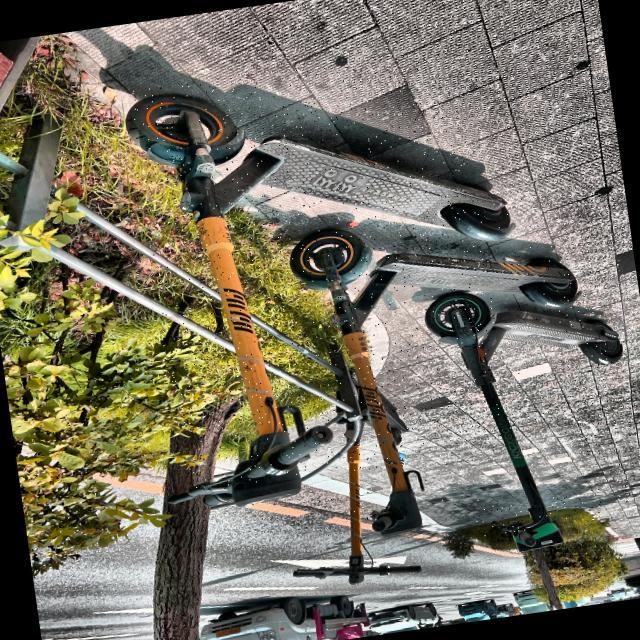bike: (97, 79, 626, 616)
